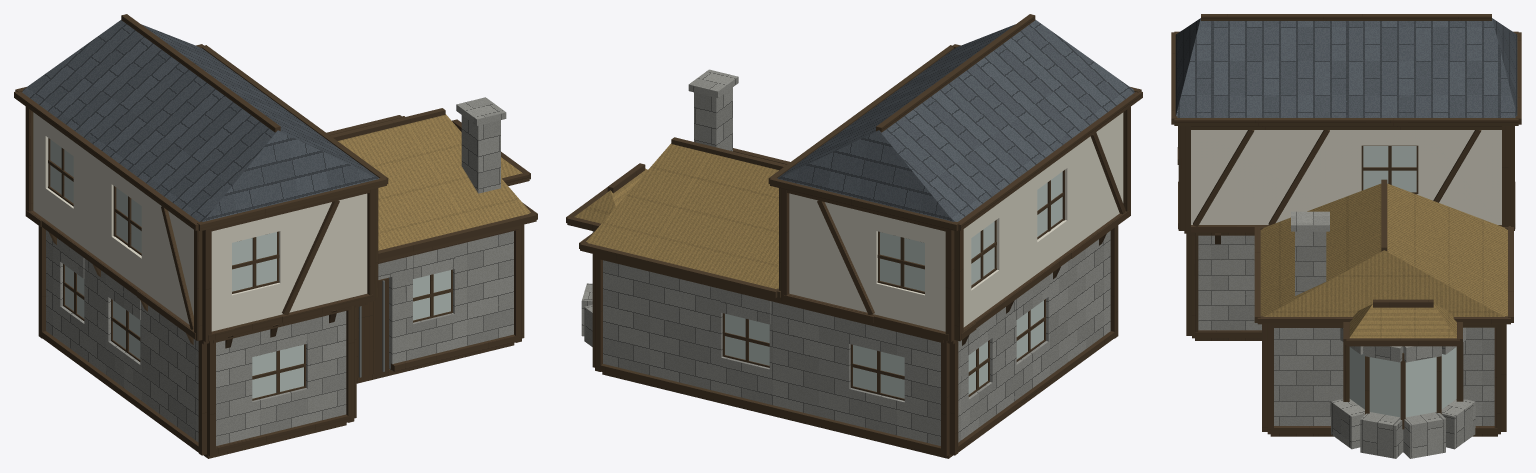
Rendered from lodge.glb.
3 views of the same model, side by side, from view 1: azimuth 30°, elevation 25°; view 2: azimuth 150°, elevation 25°; view 3: azimuth 270°, elevation 25° (orthographic). The views are drawn at different scales.
Visible parts, largest first — view 1: Lodge_GroundShell_Light_gray_limestone, Lodge_Roof_Blue_gray_slate, Lodge_UpperShell_Oat_plaster, Lodge_Roof_Muted_wheat_thatch, Lodge_GroundShell_Warm_oak, Lodge_UpperShell_Warm_oak, Lodge_Roof_Warm_oak, Lodge_Glazing_Muted_old_glass, Lodge_Chimney_Light_gray_limestone, Lodge_Door_Warm_oak, Lodge_GroundFloor_Warm_oak; view 2: Lodge_GroundShell_Light_gray_limestone, Lodge_Roof_Blue_gray_slate, Lodge_UpperShell_Oat_plaster, Lodge_Roof_Muted_wheat_thatch, Lodge_GroundShell_Warm_oak, Lodge_UpperShell_Warm_oak, Lodge_Roof_Warm_oak, Lodge_Glazing_Muted_old_glass, Lodge_Chimney_Light_gray_limestone, Lodge_GroundFloor_Warm_oak; view 3: Lodge_Roof_Blue_gray_slate, Lodge_Roof_Muted_wheat_thatch, Lodge_GroundShell_Light_gray_limestone, Lodge_UpperShell_Oat_plaster, Lodge_Roof_Warm_oak, Lodge_GroundShell_Warm_oak, Lodge_Glazing_Muted_old_glass, Lodge_UpperShell_Warm_oak, Lodge_Chimney_Light_gray_limestone, Lodge_GroundFloor_Warm_oak.
Part boxes in pixels (x1,y1,x2,y2): Lodge_GroundShell_Light_gray_limestone: (46, 230, 513, 445); Lodge_Roof_Blue_gray_slate: (22, 20, 379, 221); Lodge_UpperShell_Oat_plaster: (33, 112, 367, 331); Lodge_Roof_Muted_wheat_thatch: (338, 114, 530, 250); Lodge_GroundShell_Warm_oak: (38, 224, 524, 456); Lodge_UpperShell_Warm_oak: (25, 106, 378, 342); Lodge_Roof_Warm_oak: (14, 14, 537, 259); Lodge_Glazing_Muted_old_glass: (50, 139, 450, 398); Lodge_Chimney_Light_gray_limestone: (456, 97, 506, 193); Lodge_Door_Warm_oak: (356, 278, 388, 377); Lodge_GroundFloor_Warm_oak: (204, 343, 514, 458); Lodge_GroundShell_Light_gray_limestone: (581, 231, 1110, 445); Lodge_Roof_Blue_gray_slate: (777, 19, 1134, 221); Lodge_UpperShell_Oat_plaster: (789, 112, 1123, 331); Lodge_Roof_Muted_wheat_thatch: (574, 143, 778, 288); Lodge_GroundShell_Warm_oak: (592, 225, 1118, 456); Lodge_UpperShell_Warm_oak: (779, 107, 1130, 341); Lodge_Roof_Warm_oak: (566, 14, 1142, 298); Lodge_Glazing_Muted_old_glass: (725, 171, 1062, 398); Lodge_Chimney_Light_gray_limestone: (688, 69, 738, 151); Lodge_GroundFloor_Warm_oak: (602, 372, 952, 458); Lodge_Roof_Blue_gray_slate: (1175, 18, 1517, 117); Lodge_Roof_Muted_wheat_thatch: (1260, 183, 1507, 338); Lodge_GroundShell_Light_gray_limestone: (1198, 235, 1494, 458); Lodge_UpperShell_Oat_plaster: (1191, 130, 1501, 224); Lodge_Roof_Warm_oak: (1171, 14, 1521, 346); Lodge_GroundShell_Warm_oak: (1186, 233, 1506, 434); Lodge_Glazing_Muted_old_glass: (1349, 146, 1456, 417); Lodge_UpperShell_Warm_oak: (1177, 126, 1515, 233); Lodge_Chimney_Light_gray_limestone: (1291, 211, 1329, 295); Lodge_GroundFloor_Warm_oak: (1195, 338, 1497, 452).
Bounding box in the file's own units: 12.47 × 8.61 × 9.26.
Materials: 20 (4 with a texture image).
